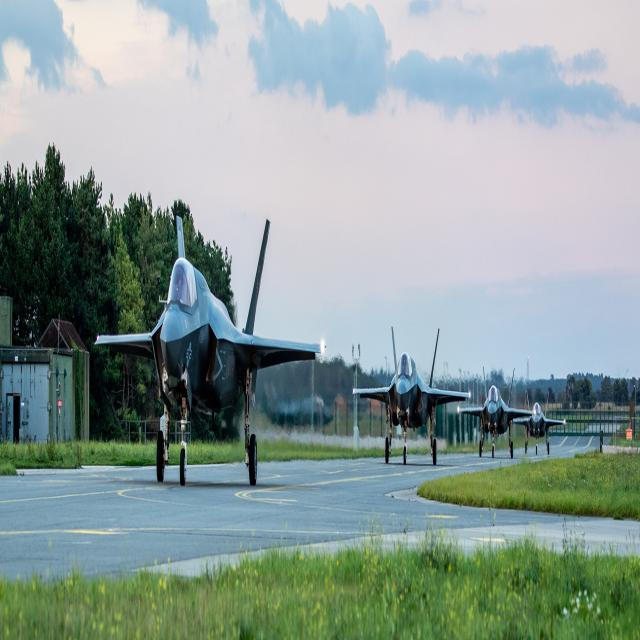MIL_Plane: (94, 215, 326, 485), (352, 326, 471, 466), (457, 366, 536, 459), (259, 380, 333, 435), (509, 389, 566, 455)
